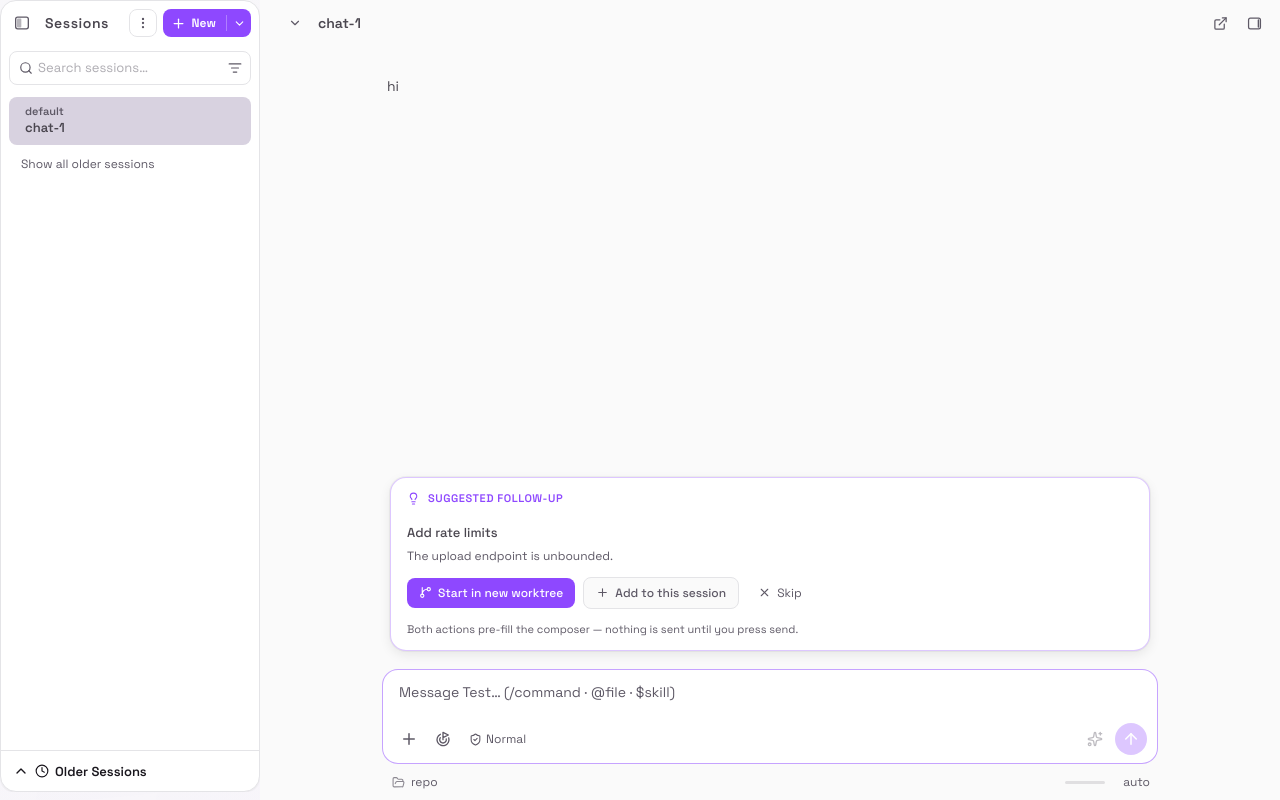
Test: ChatPage follow-up worktree orchestration › surfaces a worktree failure without creating a session
The width and height of the screenshot is (1280, 800).
Expected: the text "Add rate limits" is shown, top-left (407, 524), bottom-right (498, 541)
Click the button "Start in new worktree": coordinates (491, 593) top-left (407, 578), bottom-right (575, 608)
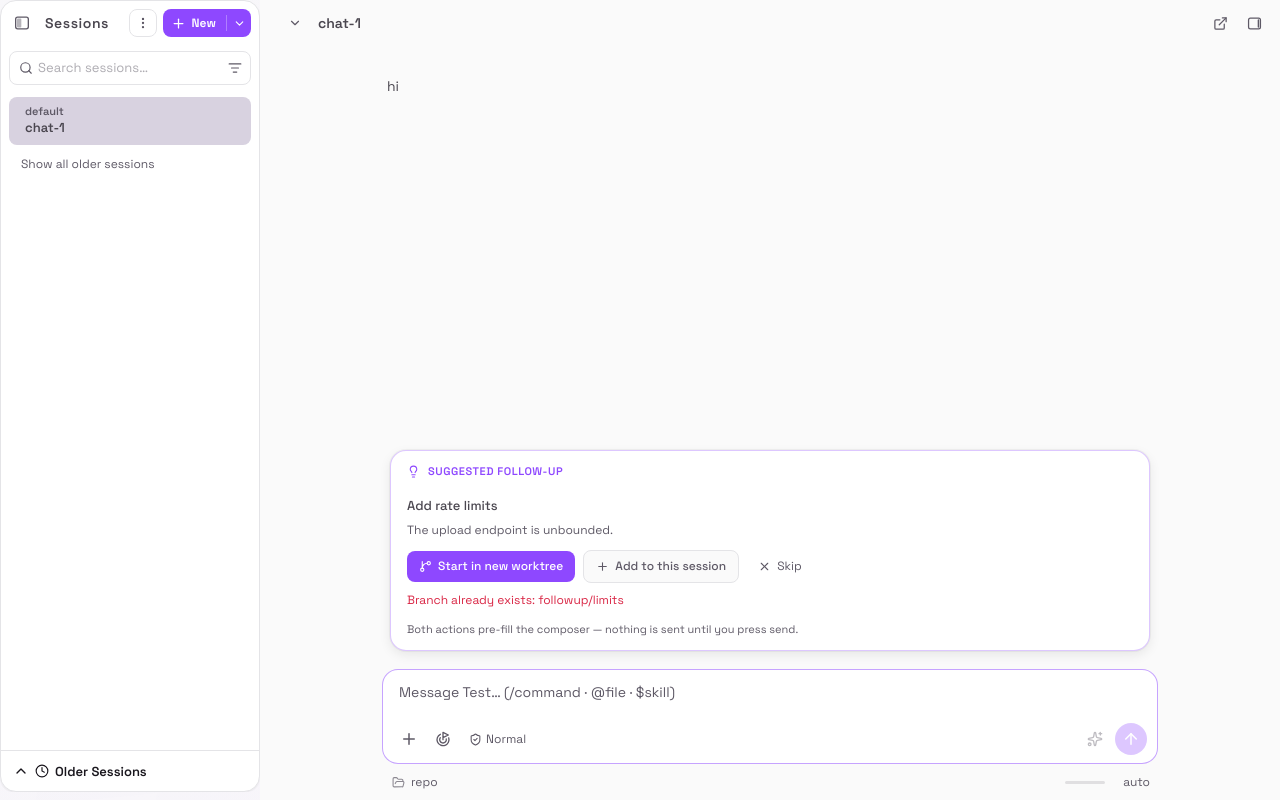
Expected: the text box named "Message input" is empty, top-left (383, 670), bottom-right (1157, 714)
Result: the message shows "Branch already exists" at top-left (407, 592), bottom-right (624, 608)
